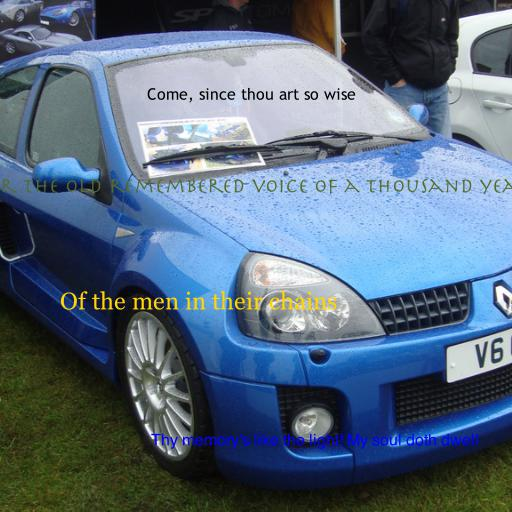Apple Chancery: (151, 433, 479, 449)
Georgia: (59, 291, 337, 310)
Herculanum: (0, 178, 512, 195)
Trebuchet MS: (146, 87, 356, 103)
